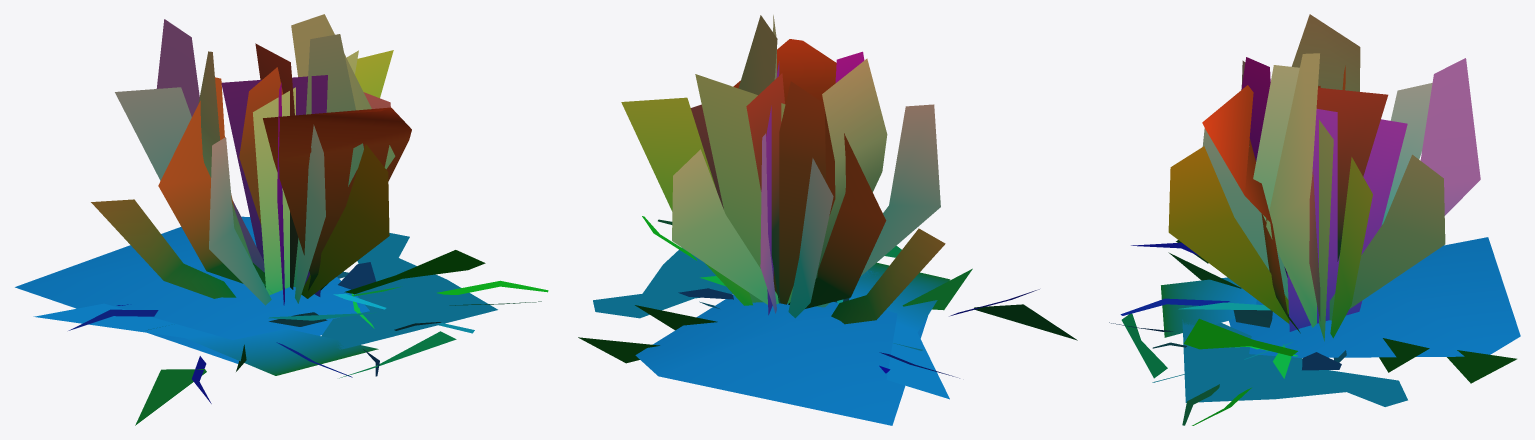
The model's file is Dead_Shrubs_vdknafgha_Low_vdknafgha_VarE_LOD2.fbx.
3 views of the same model, side by side, from view 1: azimuth 30°, elevation 25°; view 2: azimuth 150°, elevation 25°; view 3: azimuth 270°, elevation 25° (orthographic). The views are drawn at different scales.
Visible parts, largest first — view 1: _cl5p_VarE_LOD3; view 2: _cl5p_VarE_LOD3; view 3: _cl5p_VarE_LOD3.
Part boxes in pixels (x1,y1,x2,y2): _cl5p_VarE_LOD3: (15, 14, 548, 425); _cl5p_VarE_LOD3: (578, 15, 1077, 425); _cl5p_VarE_LOD3: (1109, 14, 1520, 425).
Bounding box in the file's own units: 72.01 × 49.77 × 59.5.
